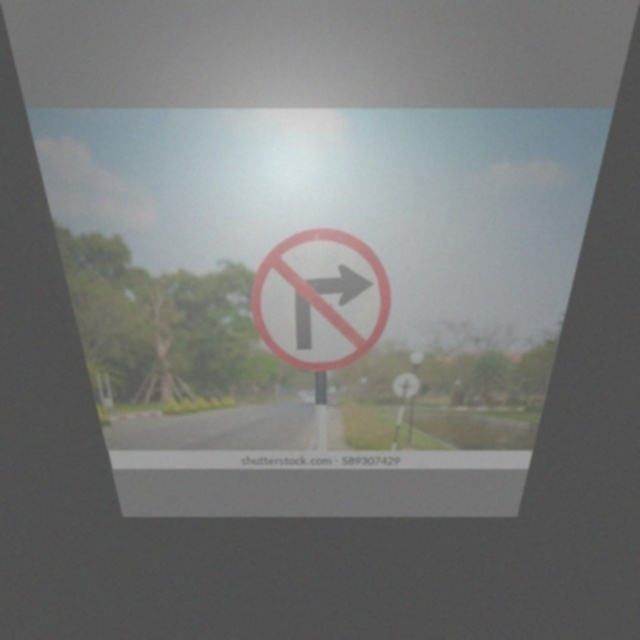Right_Turn_Prohibited: (246, 228, 397, 372)
